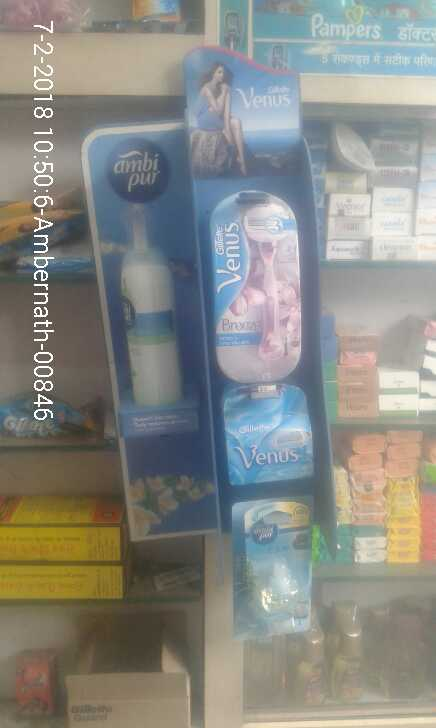beauty: (208, 190, 305, 380), (221, 387, 320, 484)
home: (111, 210, 201, 407), (226, 503, 313, 636)
